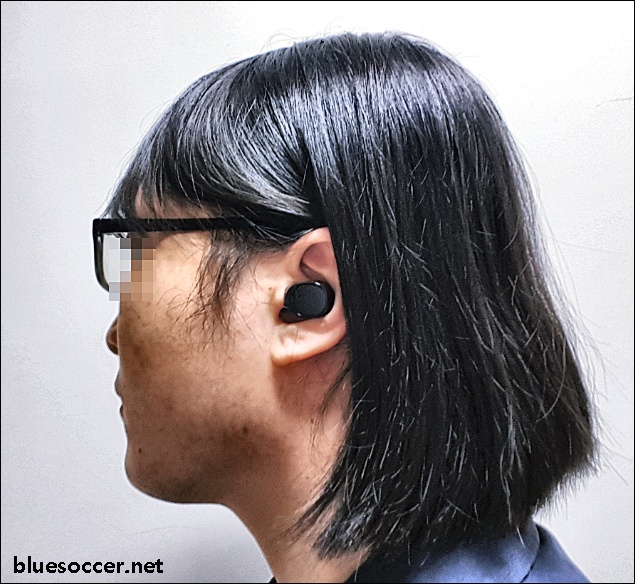earphone: (268, 228, 351, 365)
